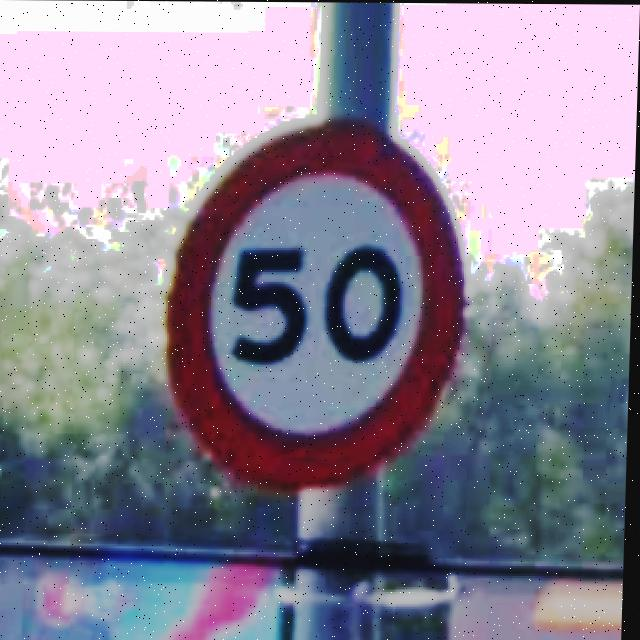max50: (159, 108, 476, 492)
